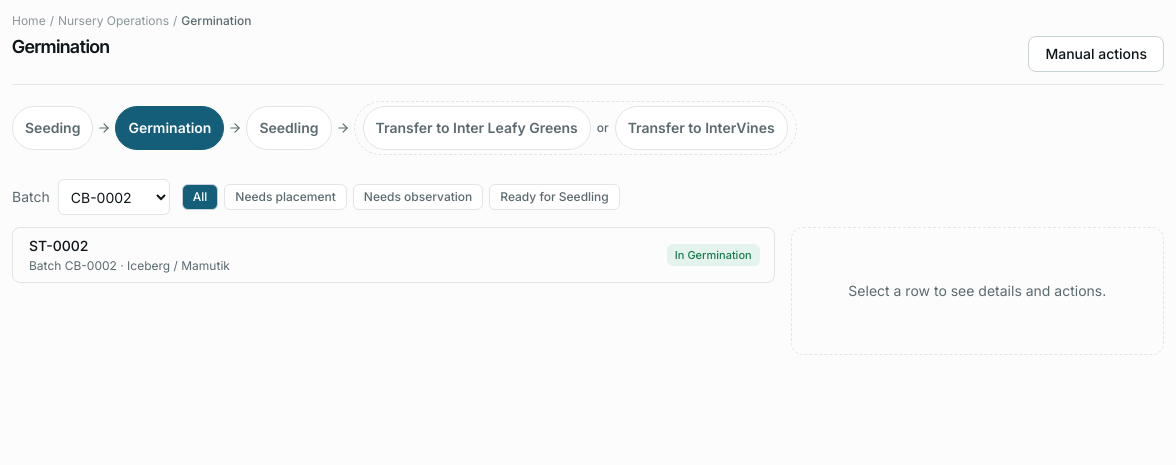
GerminationPage worklist › seeds the Batch filter from the incoming URL context and keeps it editable
Expected: the text "ST-0002" is shown, x1=29 y1=236 x2=88 y2=256
Expected: the text "ST-0001" is not shown
Select "All batches" in the dropdown labelled "Batch": (114, 197) x1=58 y1=179 x2=170 y2=215
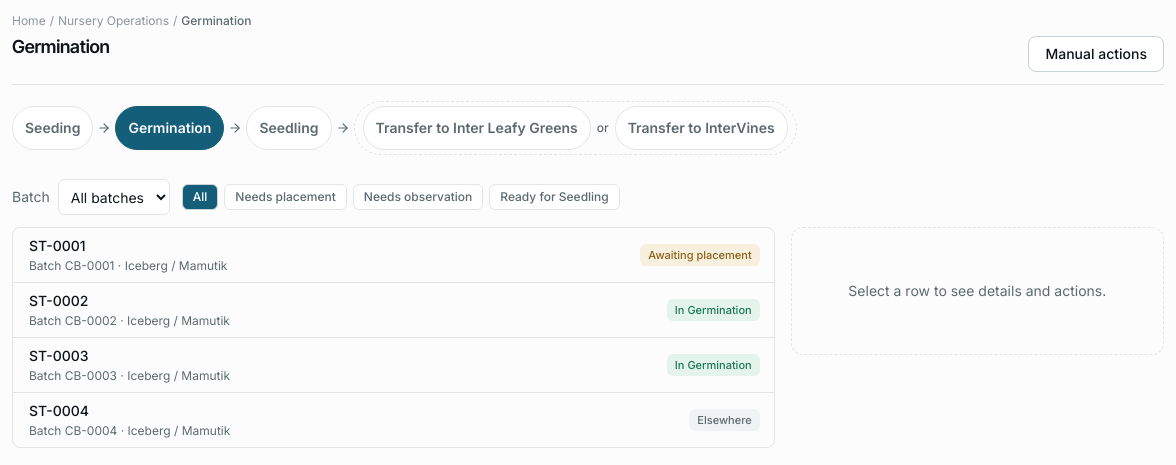
Expected: the text "ST-0001" is shown, x1=29 y1=236 x2=86 y2=256
